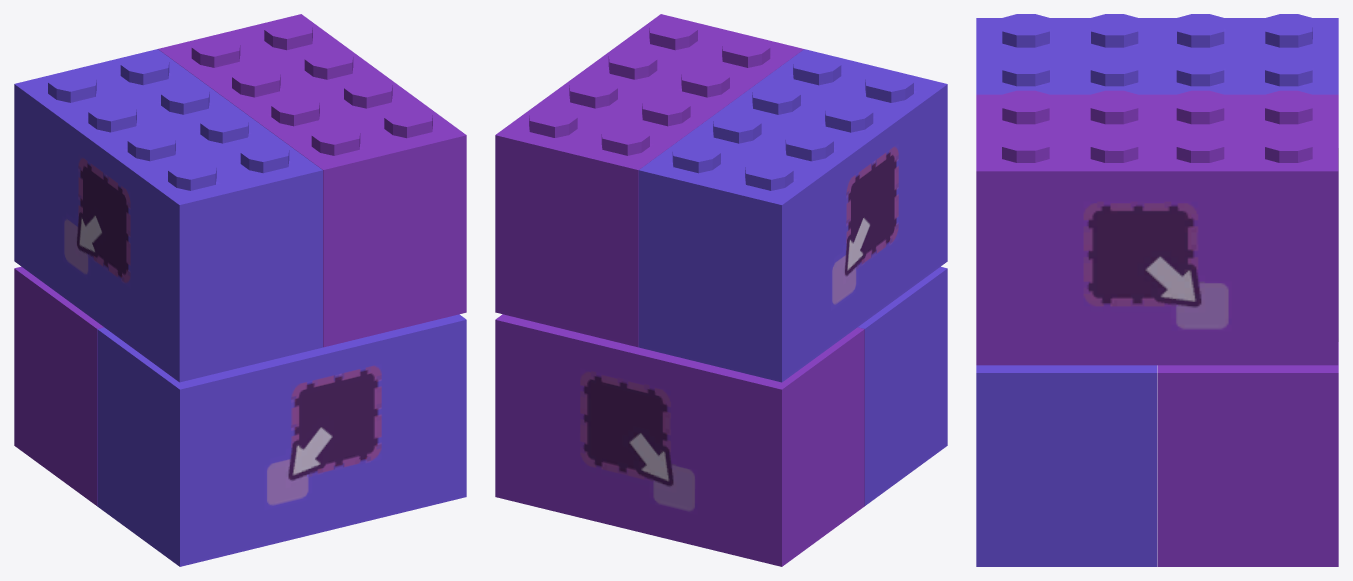
Rendered from InteractableBlock2x2Shrink.fbx.
3 renders of one model, left to right at view 1: azimuth 30°, elevation 25°; view 2: azimuth 150°, elevation 25°; view 3: azimuth 270°, elevation 25°, orthographic. The views are drawn at different scales.
Visible parts, largest first — view 1: Cube.032; view 2: Cube.032; view 3: Cube.032.
Part boxes in pixels (<box>): Cube.032: <box>14,14,466,566</box>; Cube.032: <box>495,14,947,566</box>; Cube.032: <box>976,14,1338,566</box>.
Bounding box in the file's own units: 305 × 378 × 304.
